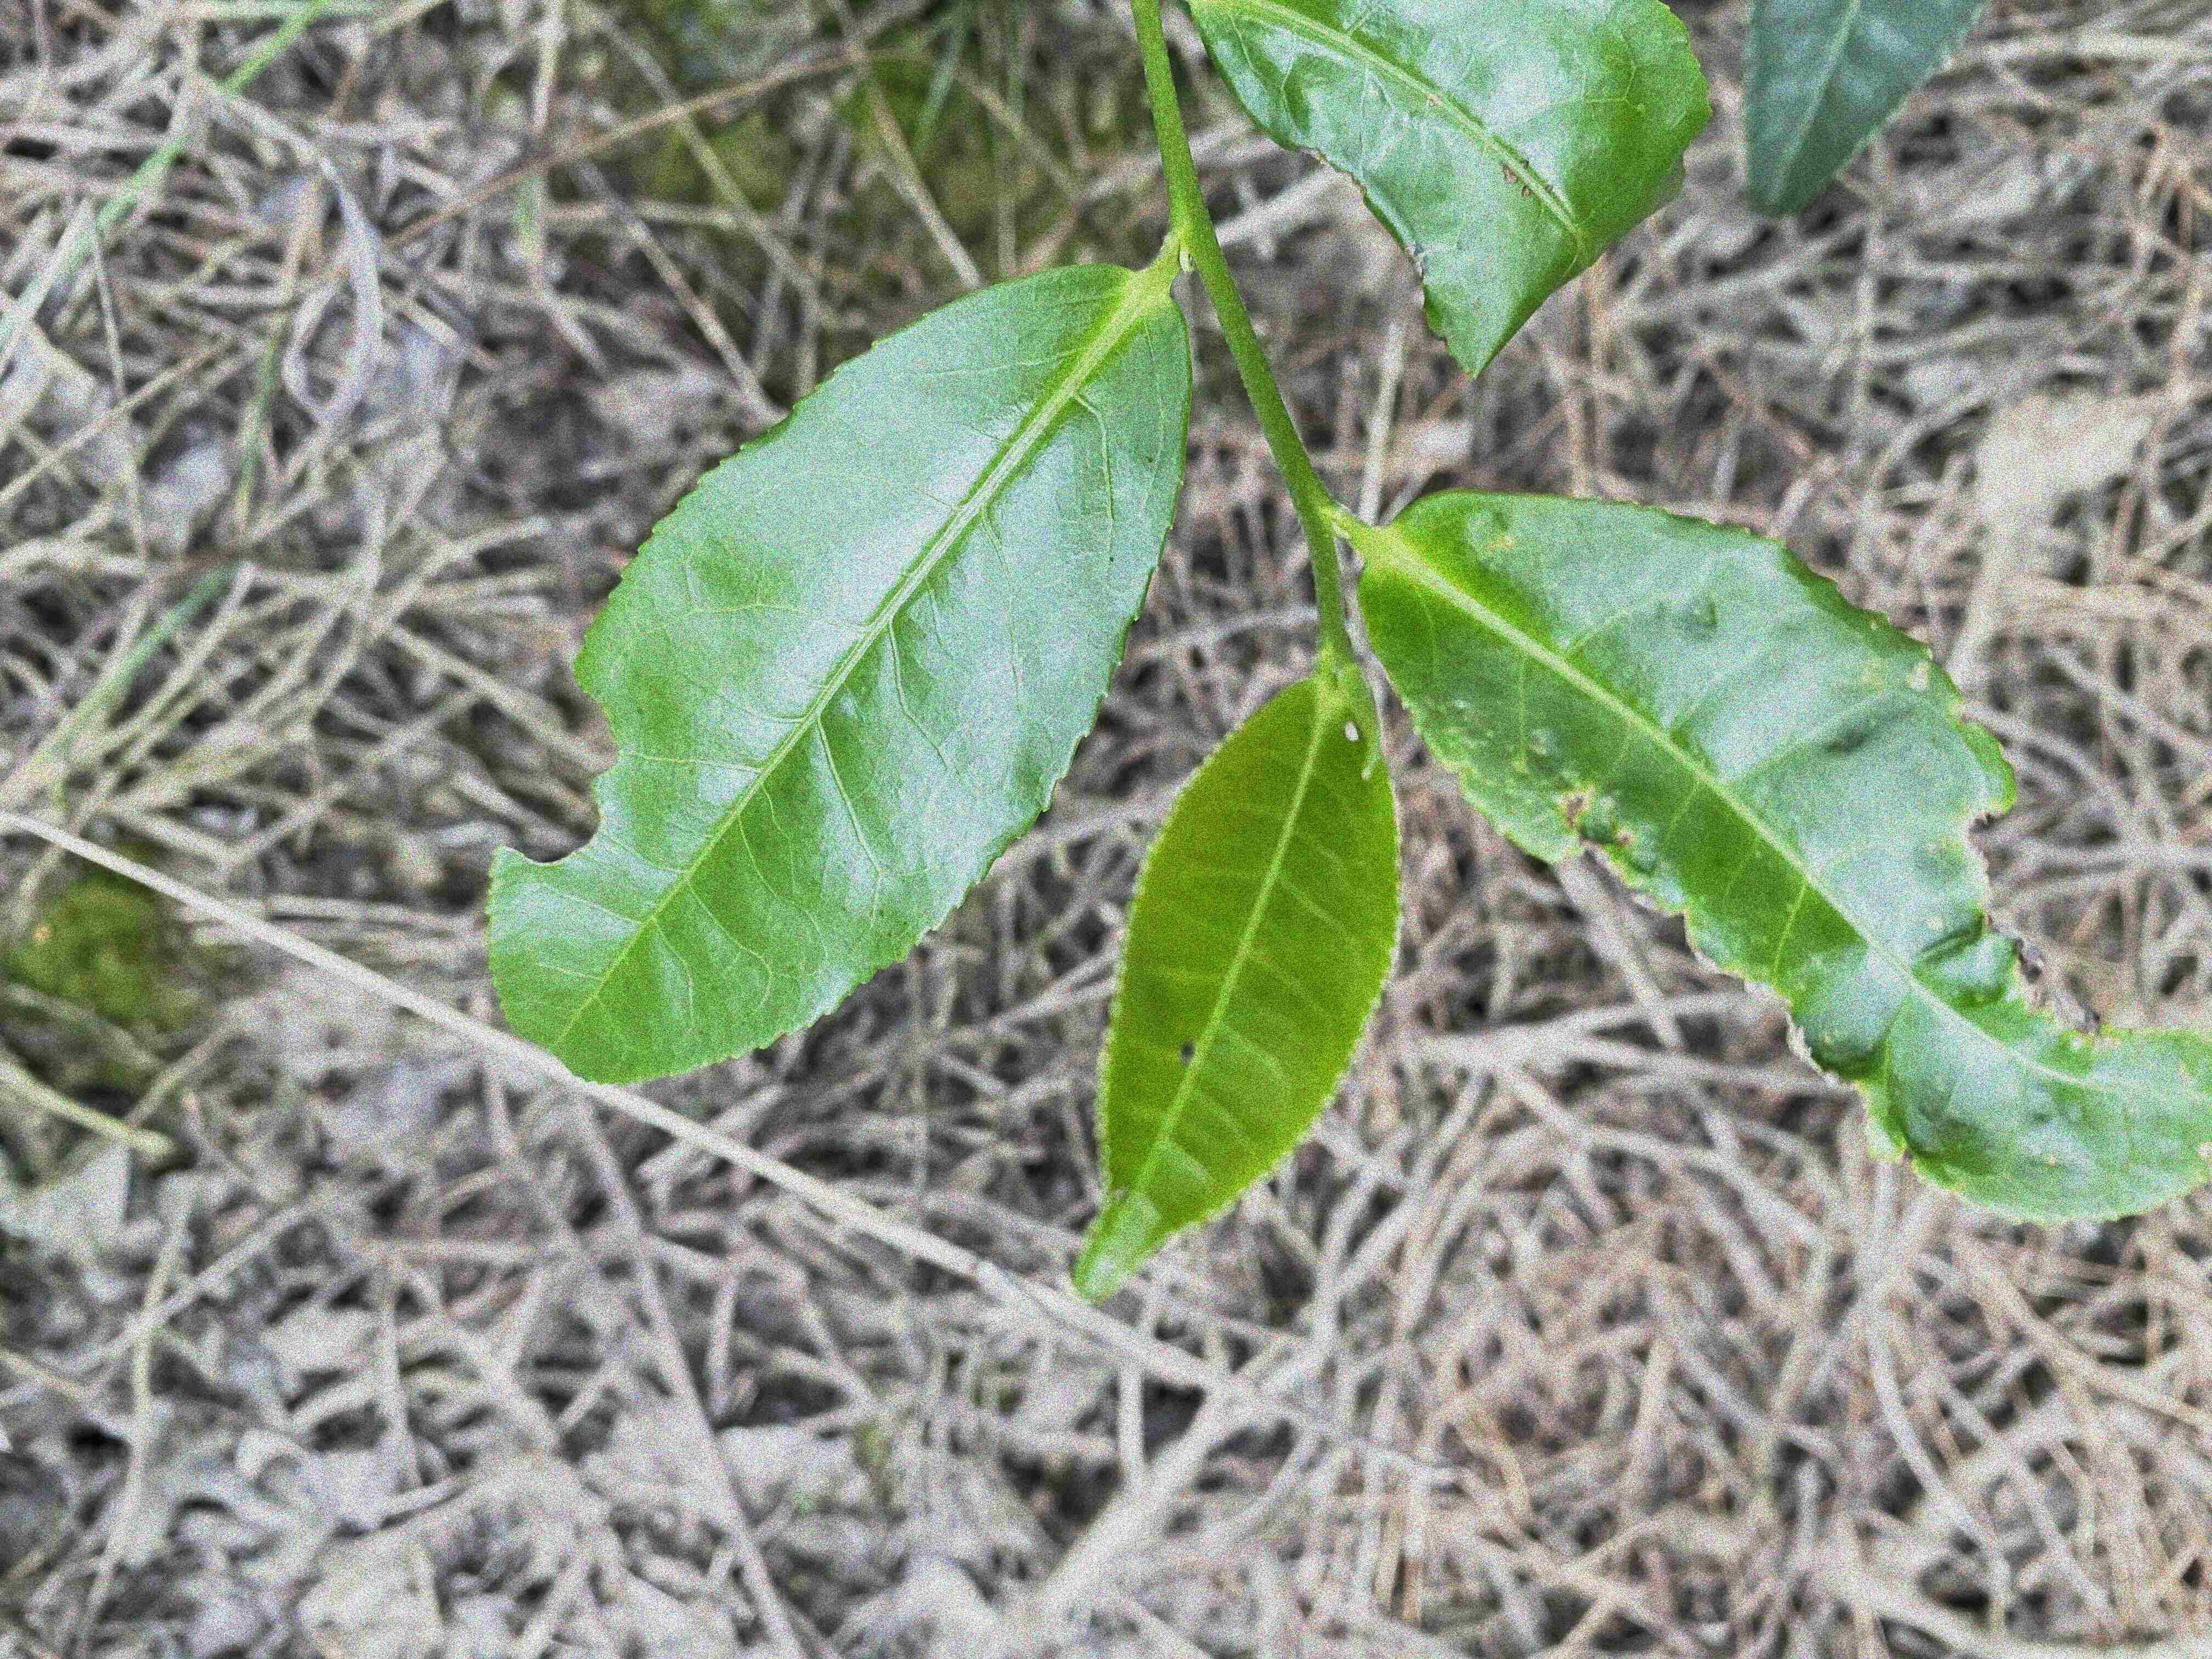chihuo_high: (1357, 488, 2210, 1227)
chihuo_low: (482, 261, 1195, 1086)
tanju_low: (1071, 674, 1404, 1302)
